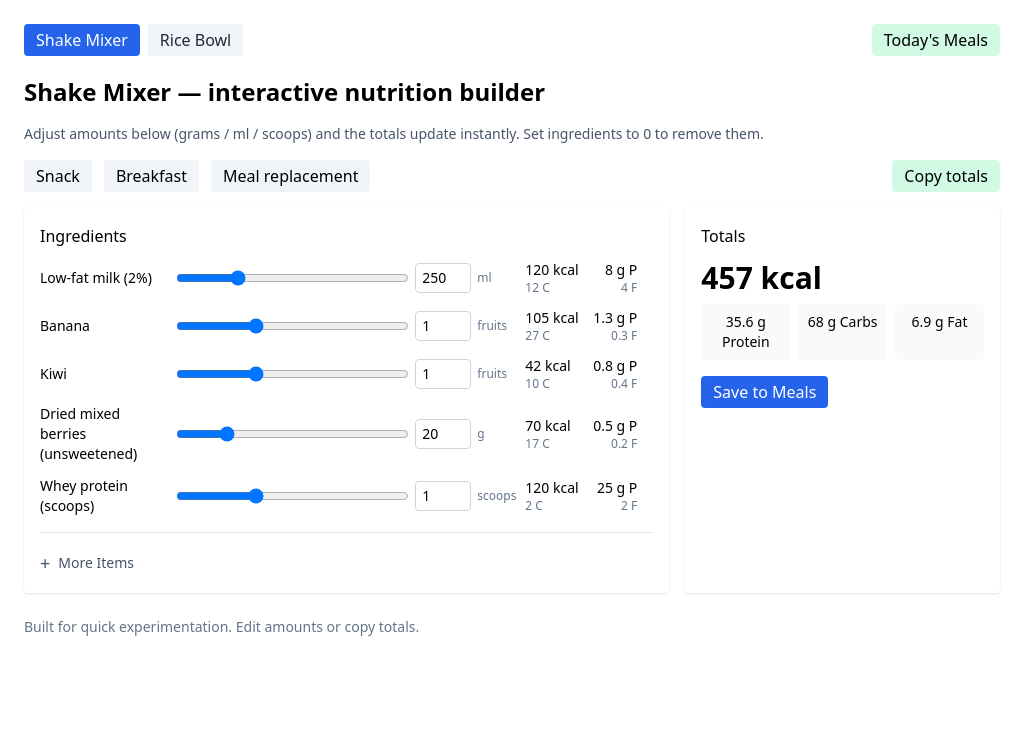
Test: Shake Mixer App › More Items Toggle › hides more items when toggle clicked again
The width and height of the screenshot is (1024, 734).
What coordinates should you click on to do the following:
click the button "+ More Items"
I would click on:
 (87, 563)
Its box is [40,549,134,577].
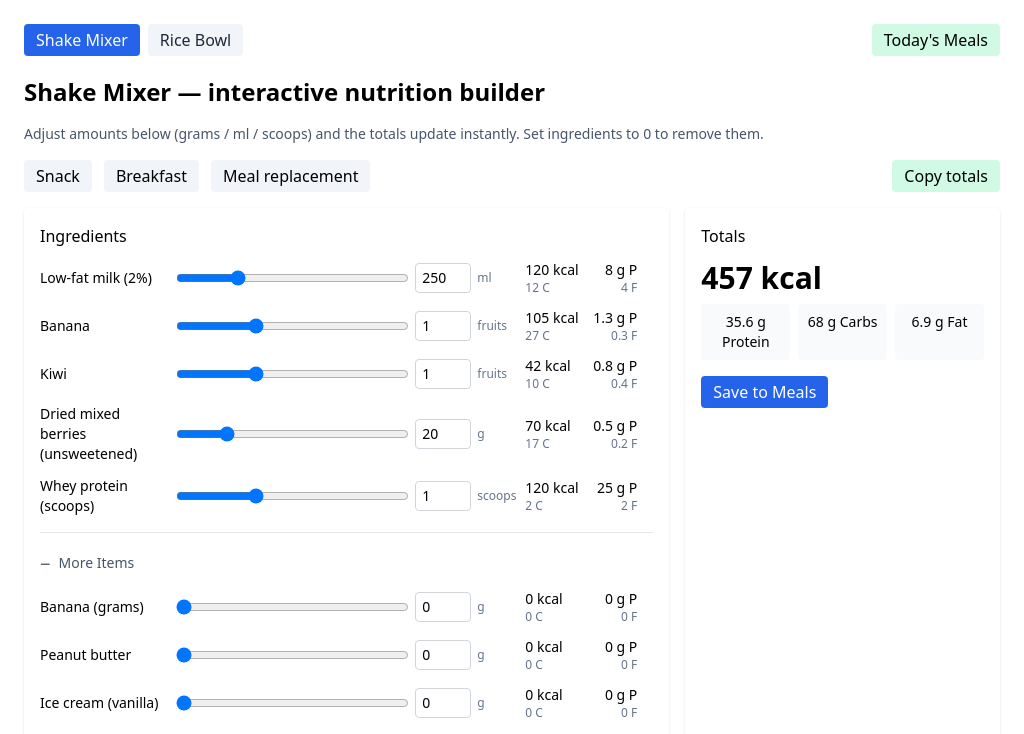
Expected: the text "Ice cream (vanilla)" is shown, [40,693,168,713]
What coordinates should you click on to do the following:
click the button "− More Items"
I would click on:
 (87, 563)
Its box is [40,549,134,577].
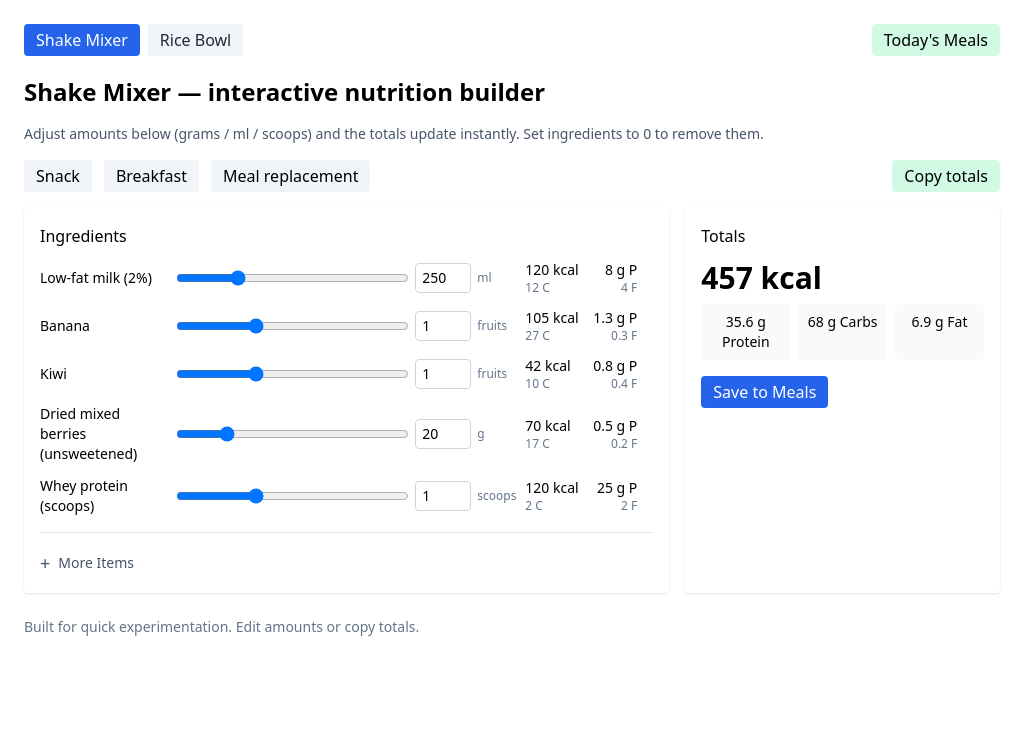
Expected: the text "Ice cream" is gone
